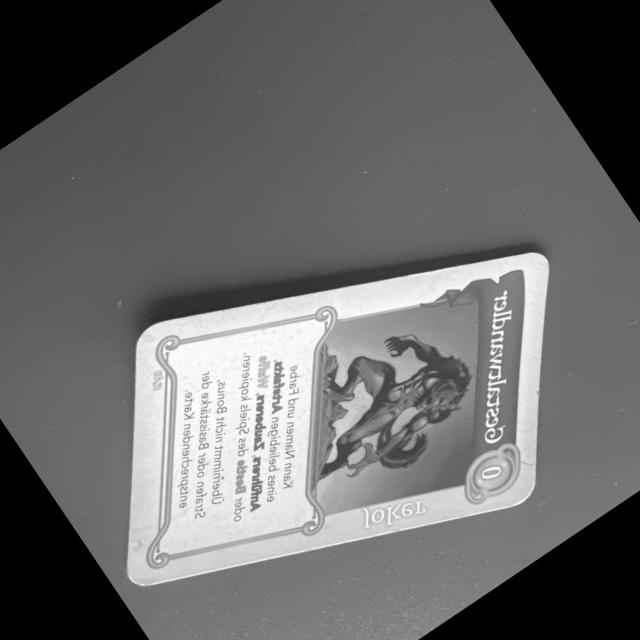Shapeshifter: (128, 244, 547, 588)
